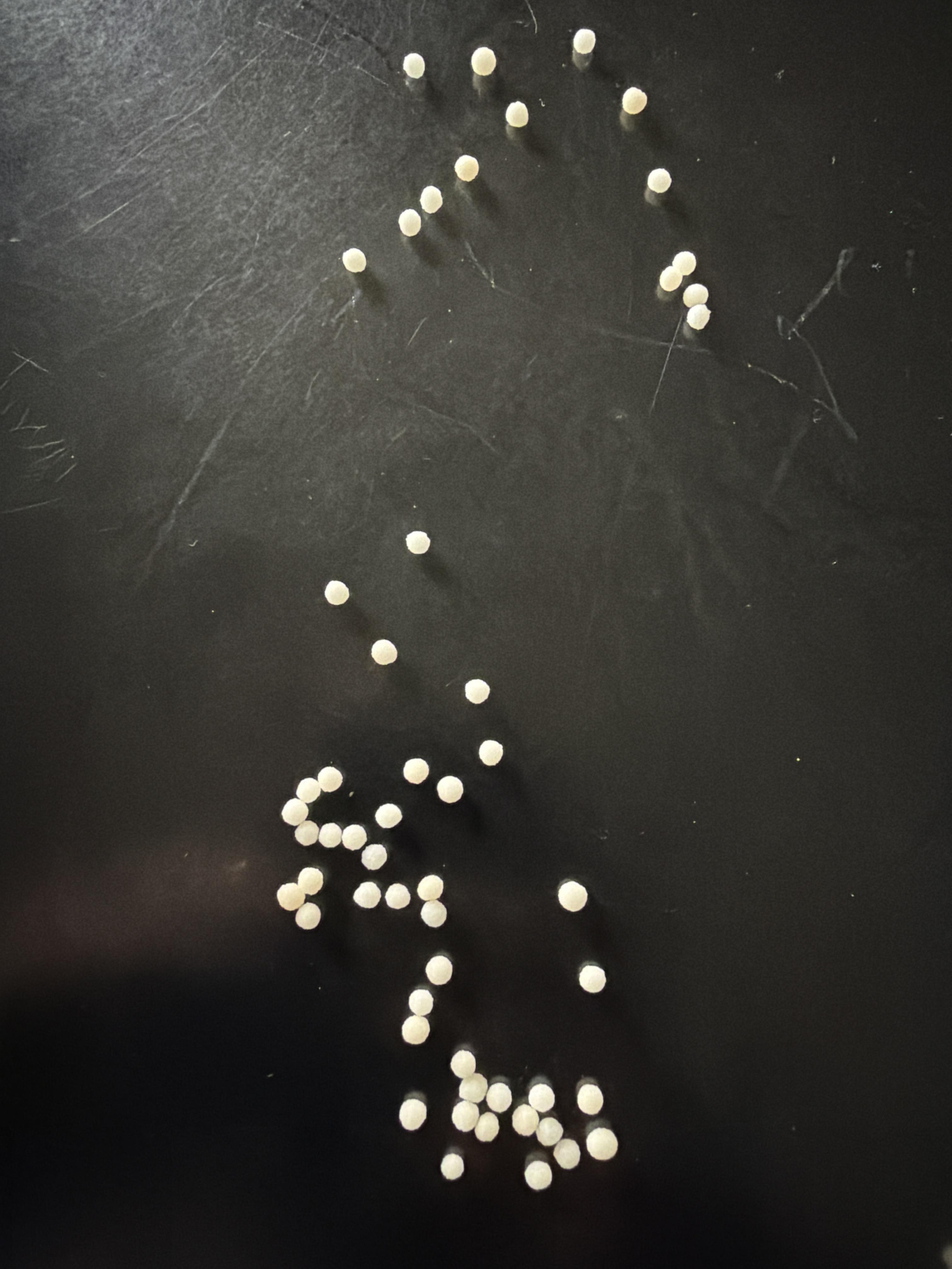pill: (586, 1127, 618, 1161), (558, 879, 587, 912), (576, 1081, 604, 1115), (399, 1097, 427, 1131), (401, 1014, 430, 1045), (524, 1159, 552, 1191), (459, 1072, 487, 1104), (528, 1081, 555, 1114), (512, 1103, 539, 1136), (553, 1137, 580, 1170), (485, 1081, 512, 1114), (425, 955, 453, 986), (451, 1101, 479, 1132), (578, 964, 606, 994), (536, 1116, 563, 1147), (276, 883, 305, 911), (450, 1048, 476, 1079), (353, 881, 381, 909), (297, 866, 324, 895), (474, 1111, 499, 1142), (436, 775, 463, 803), (281, 798, 308, 826), (420, 900, 447, 928), (295, 902, 321, 930), (361, 843, 387, 871), (471, 47, 496, 76), (440, 1151, 464, 1181), (385, 883, 411, 910), (375, 803, 402, 829), (408, 989, 434, 1016), (418, 874, 443, 902), (622, 87, 647, 115), (403, 758, 429, 784), (317, 766, 343, 792), (371, 639, 397, 665), (454, 155, 479, 182), (686, 303, 711, 330), (478, 739, 503, 766), (342, 824, 367, 851), (420, 185, 443, 214), (296, 778, 321, 804), (324, 580, 349, 606), (464, 679, 490, 704), (683, 283, 709, 308), (647, 168, 672, 194), (398, 209, 421, 237), (573, 28, 596, 56), (405, 530, 430, 555), (672, 250, 696, 276), (342, 247, 366, 273), (318, 822, 342, 848), (659, 265, 682, 292), (505, 101, 528, 128), (295, 820, 318, 846), (403, 52, 425, 79)
